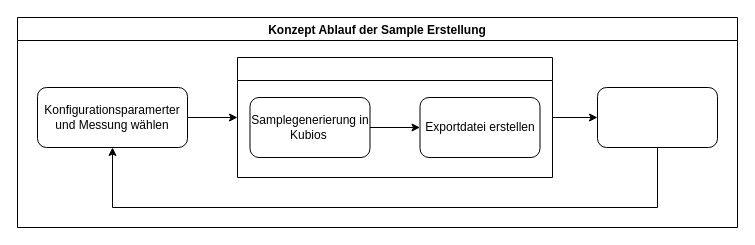
The diagram is 755 pixels wide and 245 high, and some of its shapes have lost their labels. Each missing label, with the centre of its shape:
Datei in Applikation laden: point (657, 117)
Kubios Schnittstelle: point (394, 117)
